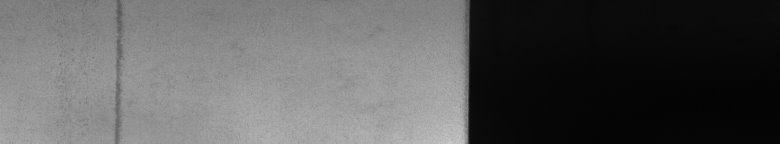hd: (111, 4, 127, 136)
